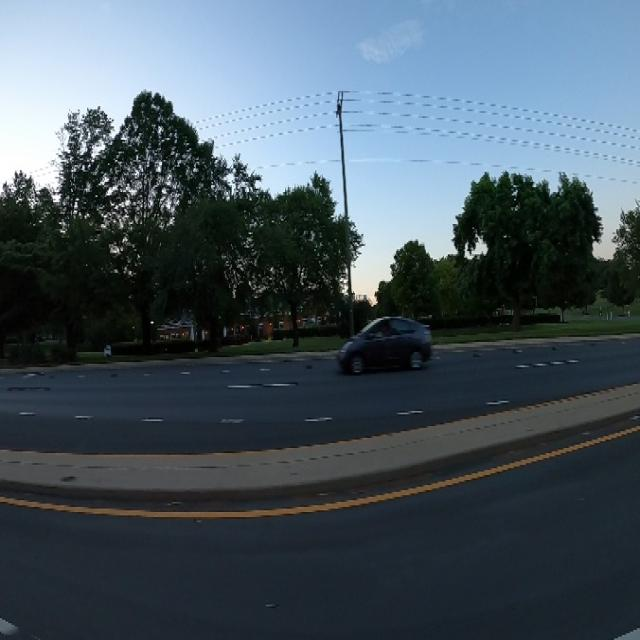cars: (338, 305, 436, 382)
